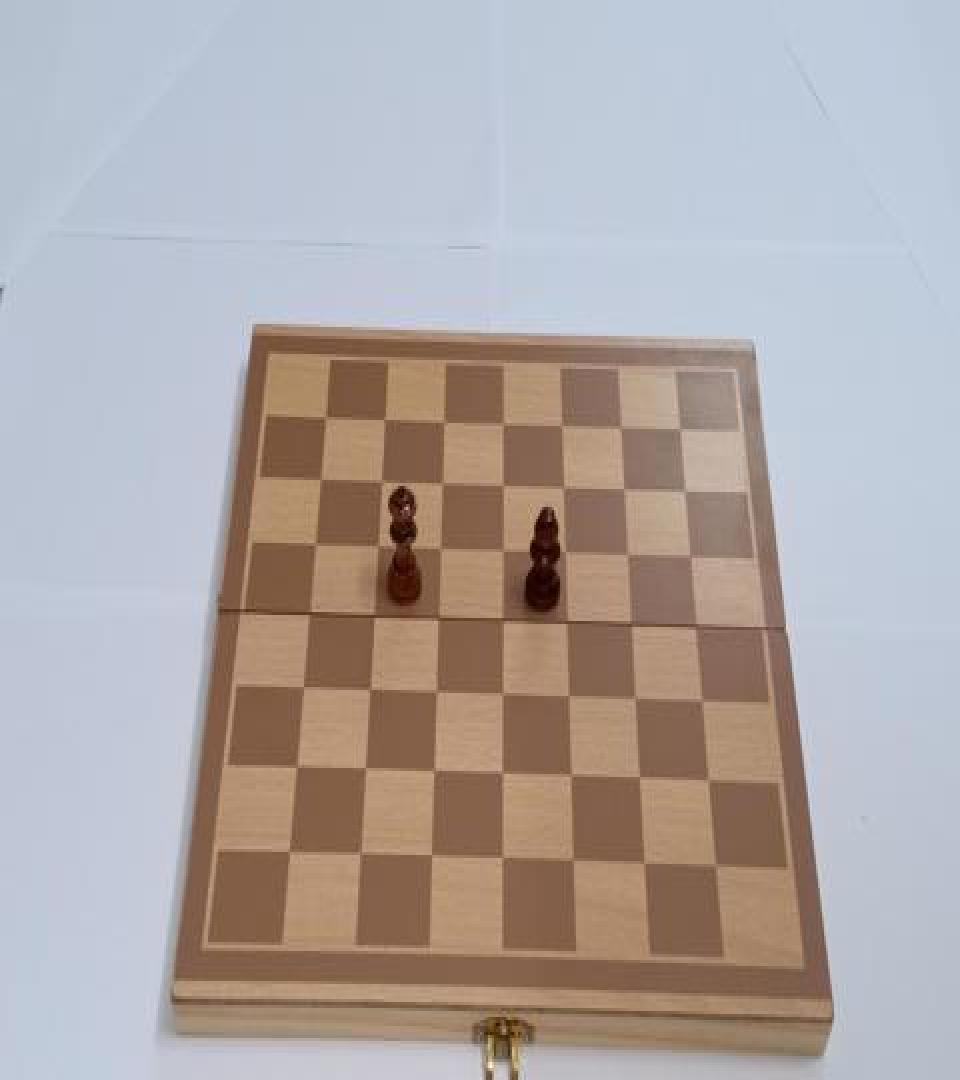xcorner: (310, 466, 328, 494), (495, 472, 513, 500), (680, 478, 698, 506), (315, 404, 333, 431), (304, 532, 322, 559), (298, 603, 316, 630), (292, 678, 310, 705), (375, 405, 393, 432), (371, 468, 389, 495), (368, 534, 386, 561), (364, 604, 382, 631), (356, 759, 374, 786), (351, 844, 369, 871), (435, 408, 453, 435), (433, 470, 451, 497), (431, 537, 449, 564), (427, 683, 445, 710), (425, 762, 443, 789), (423, 846, 441, 873), (495, 538, 513, 565), (495, 609, 513, 636), (495, 684, 513, 711), (495, 849, 513, 876), (555, 411, 573, 438), (556, 474, 574, 501), (560, 612, 578, 639), (562, 687, 580, 714), (564, 766, 582, 793), (566, 852, 584, 879), (615, 414, 633, 441), (618, 477, 636, 504), (622, 543, 640, 570), (629, 689, 647, 716), (674, 415, 692, 442), (685, 546, 703, 573), (691, 617, 709, 644), (703, 771, 721, 798), (710, 857, 728, 884), (286, 758, 304, 784), (279, 842, 297, 868), (360, 680, 378, 706), (429, 608, 447, 634), (495, 410, 513, 436), (495, 764, 513, 790), (558, 542, 576, 568), (625, 614, 643, 640), (634, 770, 652, 796), (638, 854, 656, 880), (697, 692, 715, 718)
